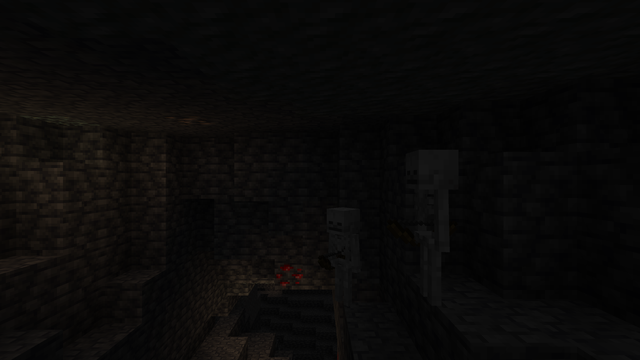squelettes: (401, 150, 464, 309), (328, 207, 358, 308)
